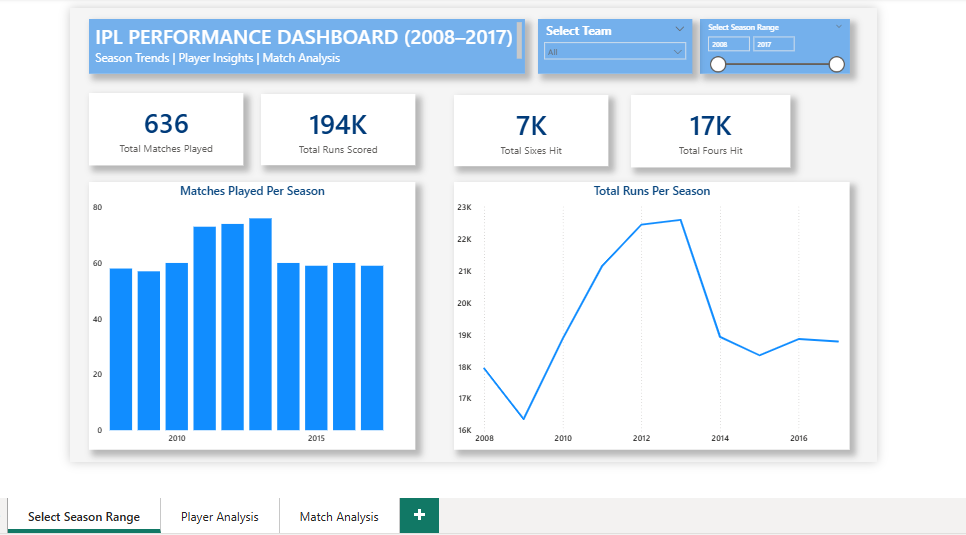

What the dashboard file says about the page in this screenshot:
{"tool":"powerbi","page":{"name":"Select Season Range","canvas":[1280,720],"ordinal":0},"visuals":[{"type":"cardVisual","fields":{"Data":["CountNonNull(matches.id)"]},"box":[30,135,245,115],"z":0},{"type":"cardVisual","fields":{"Data":["Sum(deliveries.total_runs)"]},"box":[303.3,136.7,245,113.3],"z":1000},{"type":"cardVisual","fields":{"Data":["deliveries.Total Sixes"]},"box":[610,138.3,245,113.3],"z":2000},{"type":"cardVisual","fields":{"Data":["deliveries.Total Fours"]},"box":[890,138.3,253.3,115],"z":3000},{"type":"lineStackedColumnComboChart","title":"Matches Played Per Season","fields":{"Category":["matches.season"],"Y":["CountNonNull(matches.id)"]},"box":[30,276.7,518.3,425],"z":4000},{"type":"lineStackedColumnComboChart","title":"Total Runs Per Season","fields":{"Category":["matches.season"],"Y2":["Sum(deliveries.total_runs)"]},"box":[610,276.7,628.3,425],"z":5000},{"type":"slicer","fields":{"Values":["matches.season"]},"box":[1000,16.7,237.8,86.7],"z":6000},{"type":"slicer","fields":{"Values":["matches.team1"]},"box":[743.3,16.7,245,86.7],"z":7000},{"type":"textbox","box":[30,16.7,691.7,86.7],"z":8000}]}

Visuals, with their boxes on the page's 1280x720 design canvas (x1, y1, x2, y2). These are canvas units, not pixel positions in the 966x535 screenshot, which may show the page scaled, cropped or inside an application window:
cardVisual - CountNonNull(matches.id): x1=30, y1=135, x2=275, y2=250
cardVisual - Sum(deliveries.total_runs): x1=303, y1=137, x2=548, y2=250
cardVisual - deliveries.Total Sixes: x1=610, y1=138, x2=855, y2=252
cardVisual - deliveries.Total Fours: x1=890, y1=138, x2=1143, y2=253
"Matches Played Per Season" lineStackedColumnComboChart: x1=30, y1=277, x2=548, y2=702
"Total Runs Per Season" lineStackedColumnComboChart: x1=610, y1=277, x2=1238, y2=702
slicer - matches.season: x1=1000, y1=17, x2=1238, y2=103
slicer - matches.team1: x1=743, y1=17, x2=988, y2=103
textbox: x1=30, y1=17, x2=722, y2=103
